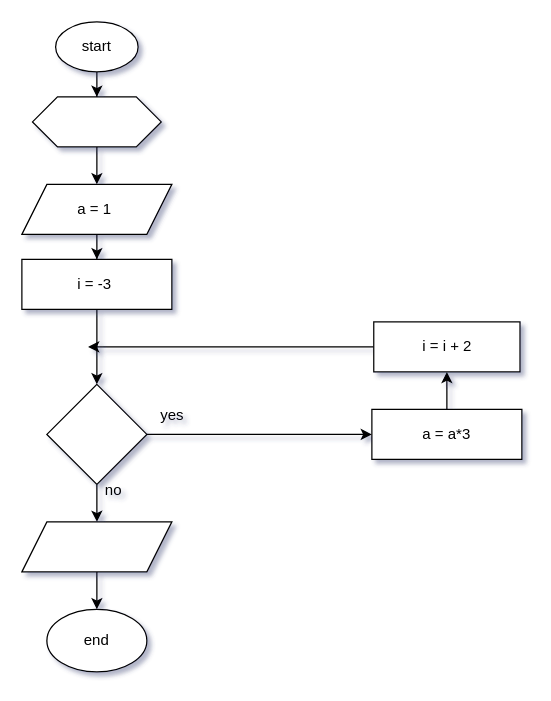
The diagram is 551 pixels wide and 701 high, and some of its shapes have lost their labels. The box of each missing label's shape, as (x1, y1, x2, y2) in pixels:
apakah i <=3?: (46, 383, 147, 484)
int a,i: (31, 96, 161, 147)
print i + ","+a: (21, 521, 172, 572)
